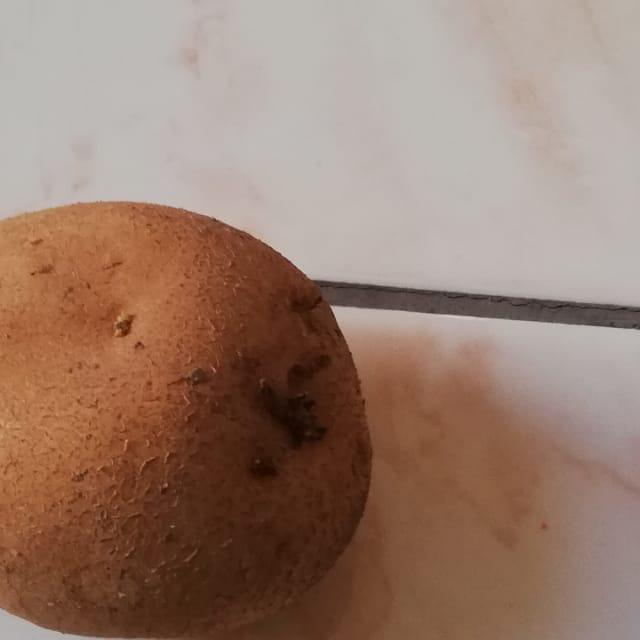potato: (0, 172, 405, 640)
